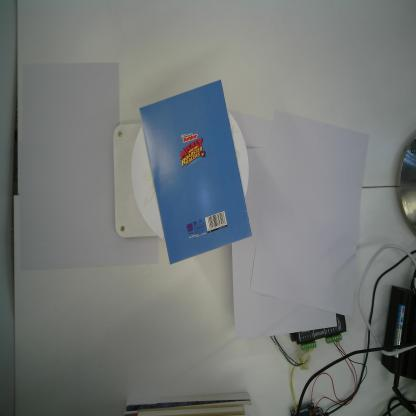Stationery: (139, 79, 252, 266)
